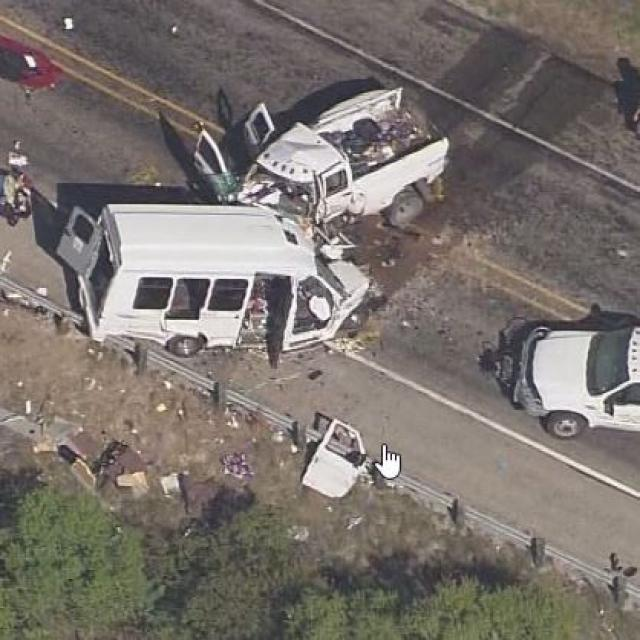traffic_incident: (52, 197, 390, 384), (211, 56, 452, 252)
